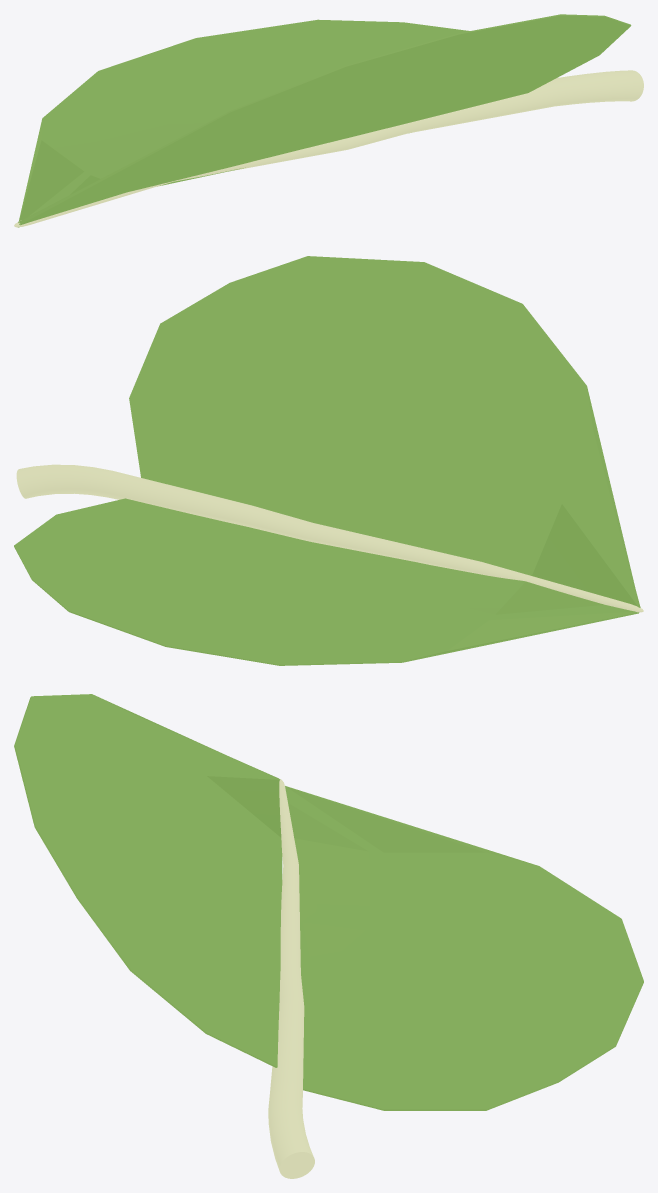
Rendered from huge_leaf.fbx.
3 renders of one model, top to bottom at view 1: azimuth 30°, elevation 25°; view 2: azimuth 150°, elevation 25°; view 3: azimuth 270°, elevation 25°, orthographic. The views are drawn at different scales.
Parts seen in each view (by area): view 1: Cube, Cube_2, Sweep; view 2: Cube, Cube_2, Sweep; view 3: Cube_2, Cube, Sweep.
Part boxes in pixels (<box>): Cube: <box>18,14,631,225</box>; Cube_2: <box>18,19,469,227</box>; Sweep: <box>14,70,643,227</box>; Cube: <box>129,256,640,607</box>; Cube_2: <box>14,498,639,665</box>; Sweep: <box>16,464,643,612</box>; Cube_2: <box>285,786,643,1110</box>; Cube: <box>14,694,282,1067</box>; Sweep: <box>268,779,314,1178</box>.
Size of the model in its own units: 565 by 191 by 409.
